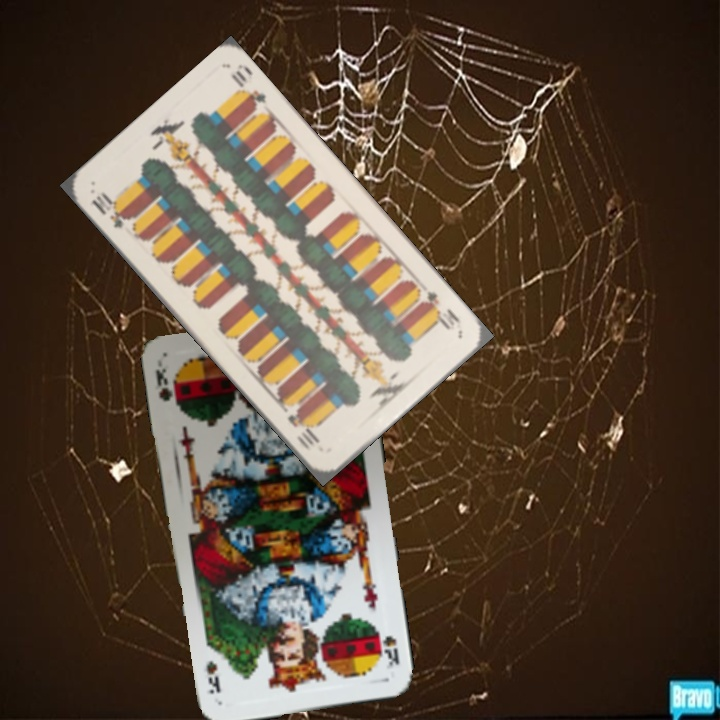E10: (418, 286, 465, 334), (87, 187, 133, 231)
SK: (151, 355, 175, 404), (379, 631, 402, 672)
